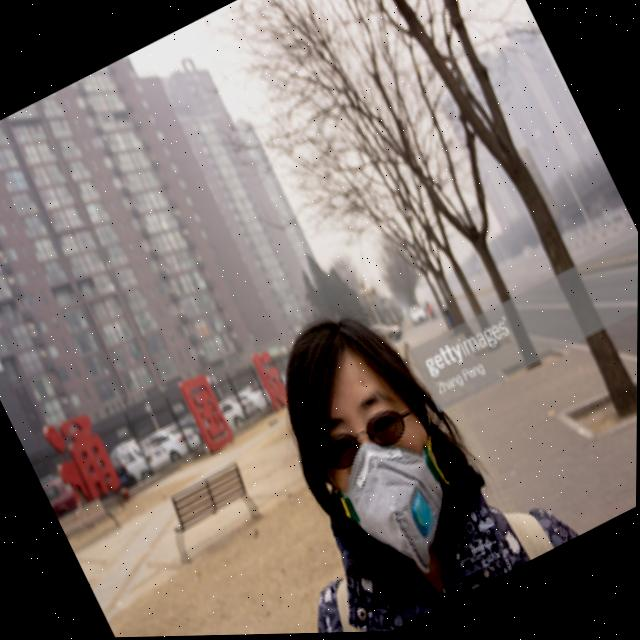Mask: (310, 399, 487, 596)
